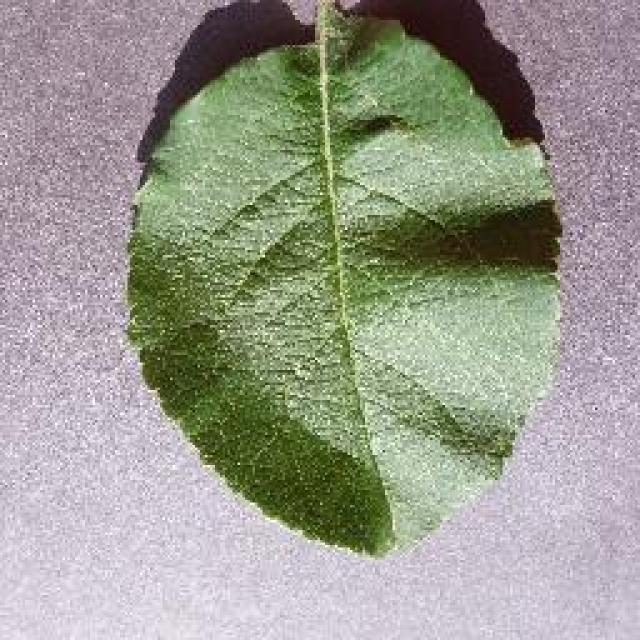apple healthy: (120, 0, 565, 560)
